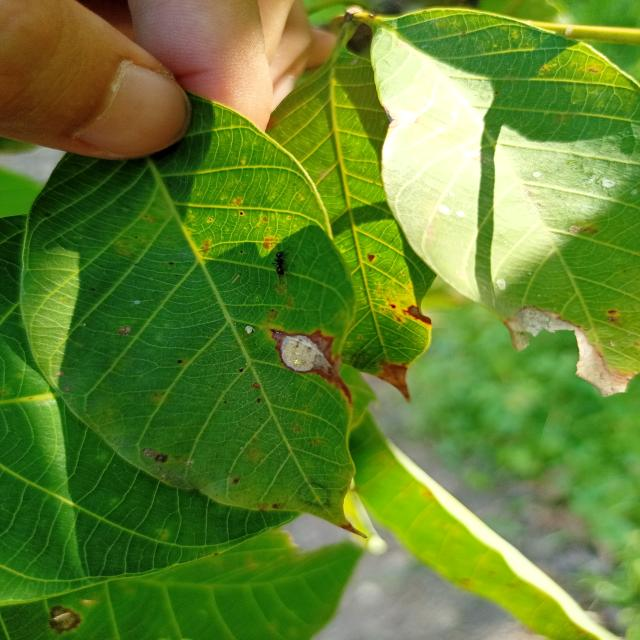Colletotrichum: (239, 211, 244, 216), (239, 368, 244, 372), (257, 398, 261, 402), (178, 360, 182, 364), (240, 250, 244, 253), (168, 262, 174, 264), (209, 219, 212, 221)
Leaf-Blight: (505, 304, 635, 398), (280, 335, 331, 375)
